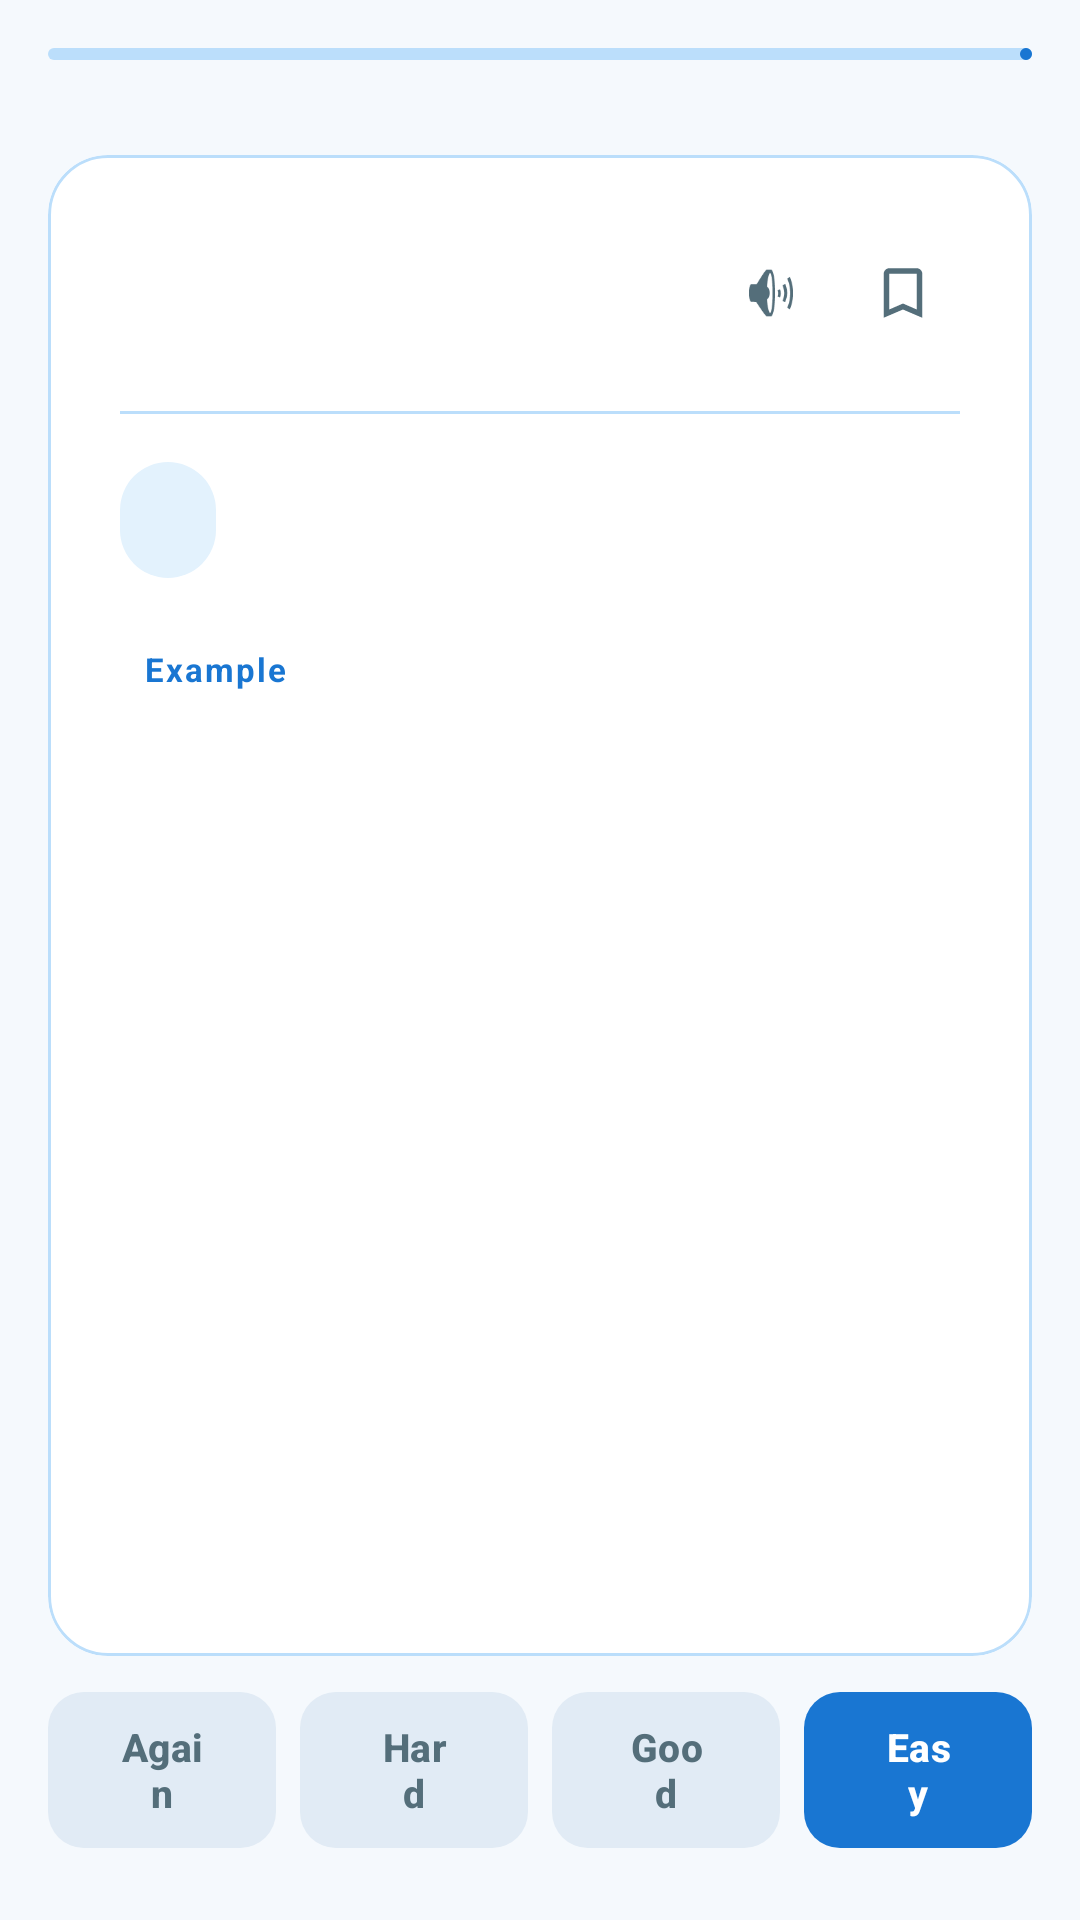

Icon click points for this 1080x1920 phone screenshot, format (x=x, y=y):
Bookmark this word: (x=903, y=293)
